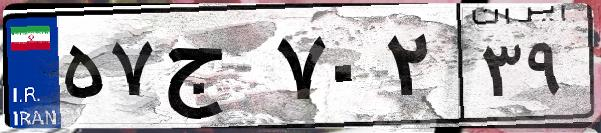0: (330, 28, 385, 110)
2: (385, 28, 445, 110)
3: (475, 38, 525, 113)
5: (57, 26, 110, 100)
7: (270, 28, 330, 110), (110, 28, 158, 98)
9: (525, 38, 570, 115)
ج: (158, 20, 270, 120)
